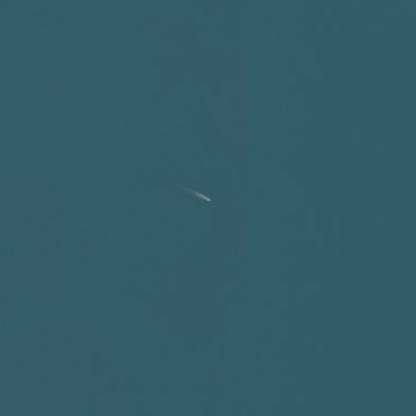ship: (197, 188, 213, 206)
